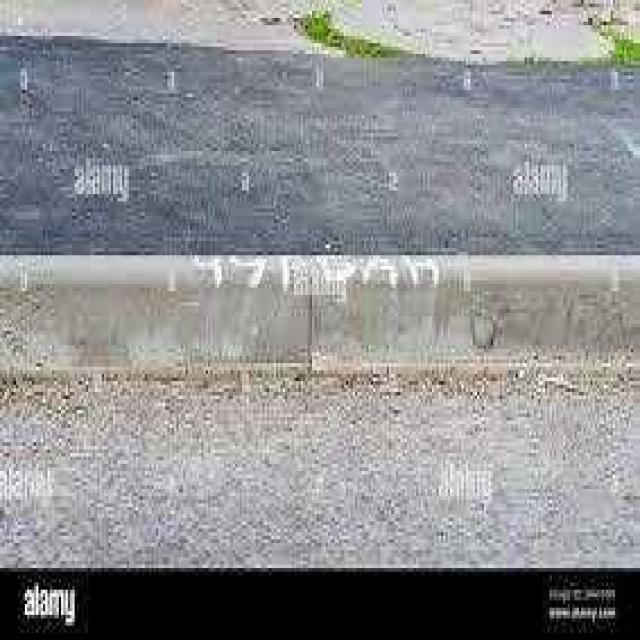curb: (1, 255, 640, 375)
